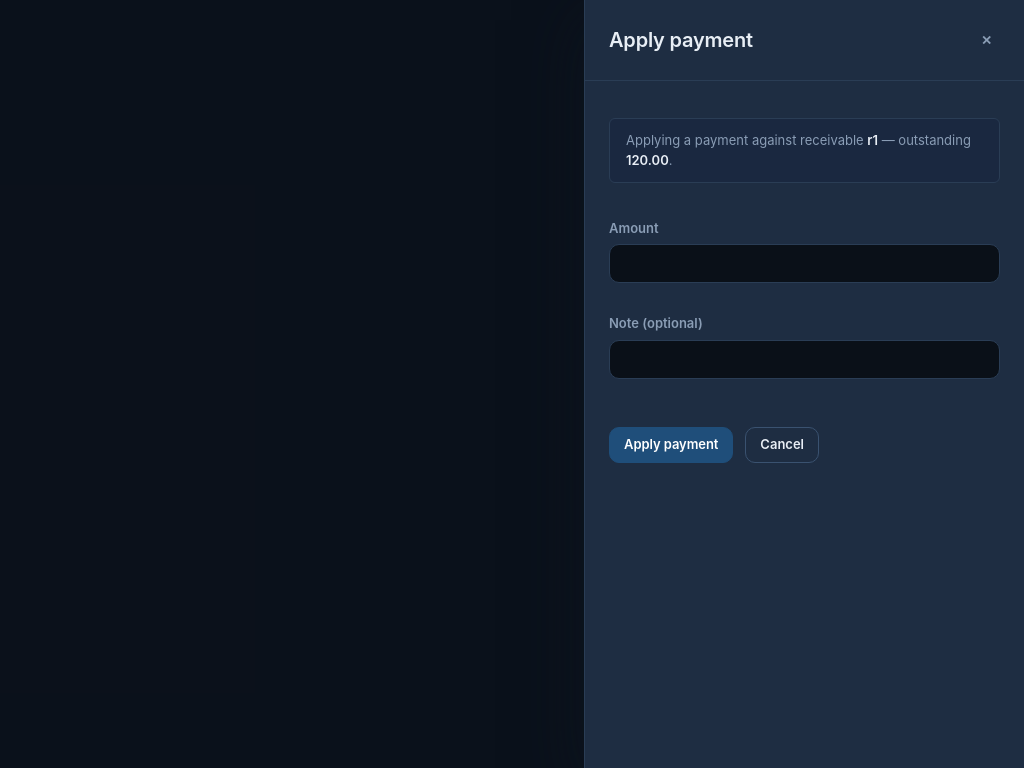
Test: ApplyPayment › 409 (stale version) -> non-disclosing conflict banner
In the field labelled "Amount": [804, 264] box [609,244,1000,283], type "50.00"
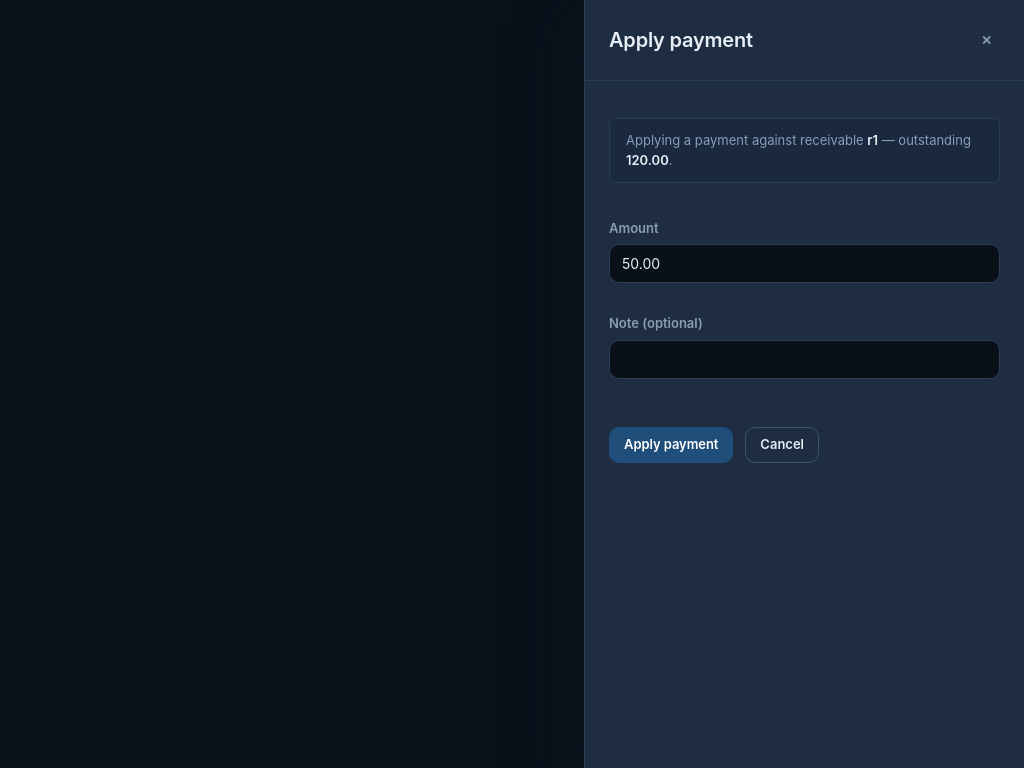
Click the button "Apply payment": [671, 444] box [609,426,733,462]
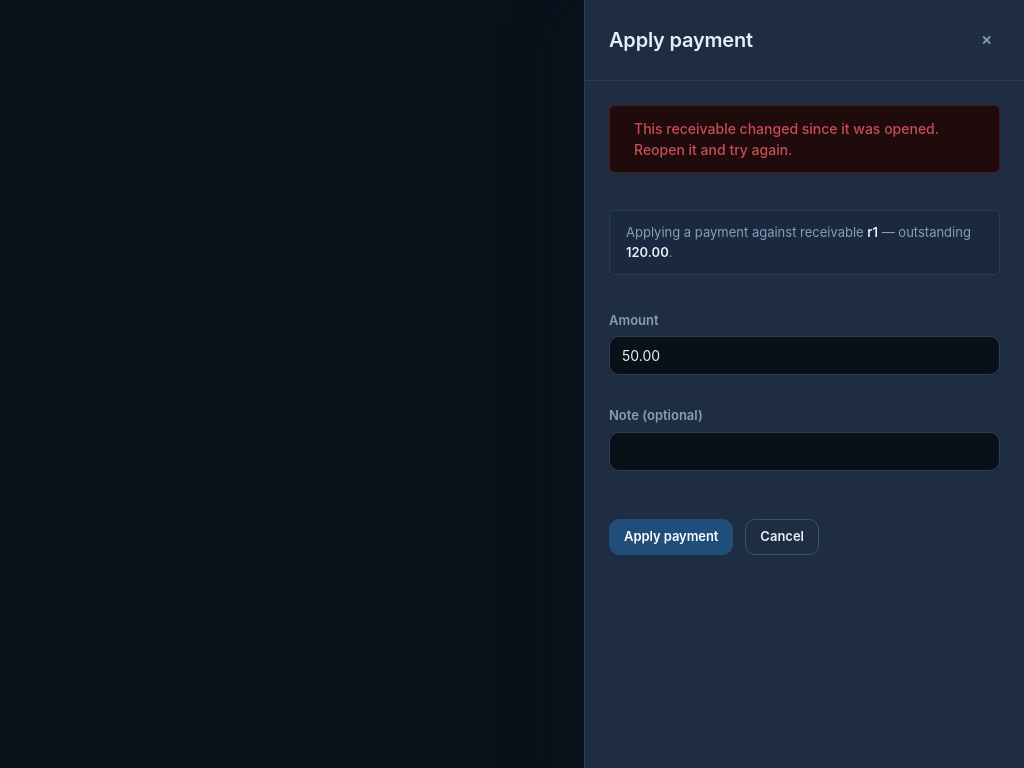
Check: the message "This receivable changed since it was opened. Reopen it and try again." is shown, box [609,105,1000,173]
